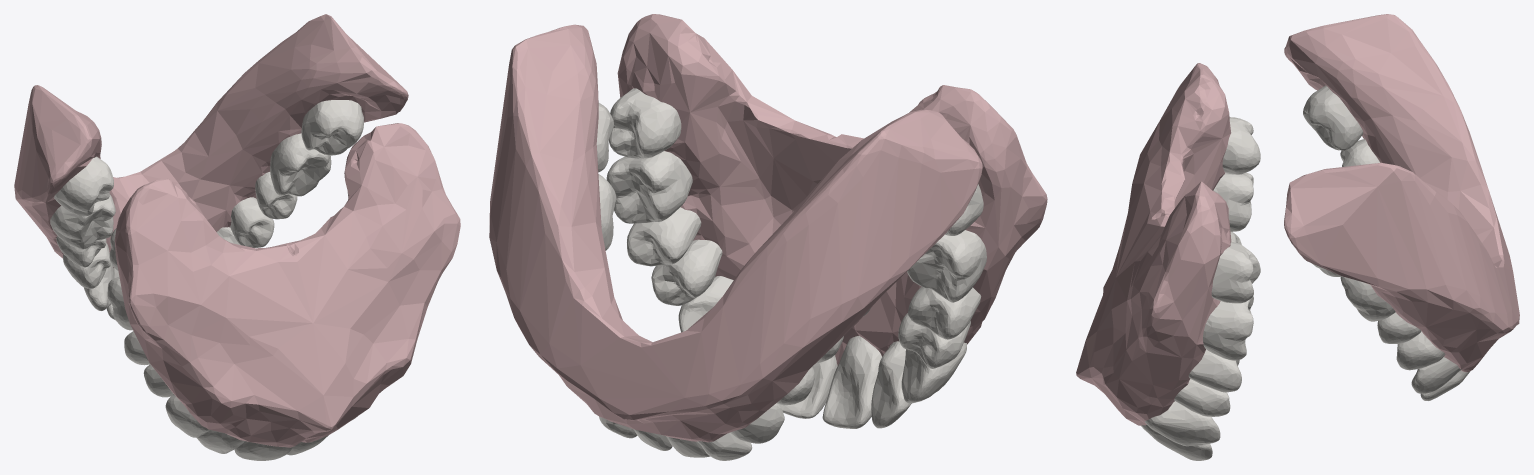
Rendered from dentadura.glb.
3 renders of one model, left to right at view 1: azimuth 30°, elevation 25°; view 2: azimuth 150°, elevation 25°; view 3: azimuth 270°, elevation 25°, orthographic. The views are drawn at different scales.
Visible parts, largest first — view 1: Encia superior, Encia inferior, Inferior_1, Inferior_2, Inferior_13, Inferior_14, Inferior_4, Inferior_3, Inferior_11, Superior_10, Superior_8, Inferior_12 (+5 smaller); view 2: Encia inferior, Encia superior, Superior_2, Superior_1, Superior_8, Superior_13, Superior_4, Superior_3, Superior_12, Superior_9, Superior_11, Superior_10 (+8 smaller); view 3: Encia inferior, Encia superior, Superior_2, Inferior_14, Superior_1, Superior_5, Superior_14, Superior_13, Superior_3, Superior_4, Inferior_2, Inferior_4 (+5 smaller).
Boxes of the visible parts, x1,y1,x2,y2 form: Encia superior: (114, 123, 460, 447); Encia inferior: (14, 14, 408, 267); Inferior_1: (301, 100, 363, 155); Inferior_2: (270, 133, 331, 196); Inferior_13: (50, 194, 115, 249); Inferior_14: (54, 156, 113, 216); Inferior_4: (230, 197, 274, 247); Inferior_3: (255, 172, 297, 219); Inferior_11: (63, 243, 110, 288); Superior_10: (165, 395, 210, 437); Superior_8: (234, 441, 292, 460); Inferior_12: (56, 236, 106, 267); Encia inferior: (489, 24, 982, 442); Encia superior: (617, 14, 1047, 365); Superior_2: (606, 151, 692, 223); Superior_1: (609, 88, 681, 158); Superior_8: (822, 336, 881, 428); Superior_13: (907, 230, 986, 302); Superior_4: (651, 239, 722, 305); Superior_3: (627, 207, 701, 266); Superior_12: (908, 286, 981, 339); Superior_9: (871, 341, 911, 428); Superior_11: (898, 313, 970, 368); Superior_10: (901, 342, 966, 403); Encia inferior: (1284, 14, 1519, 372); Encia superior: (1076, 63, 1231, 425); Superior_2: (1203, 296, 1253, 360); Inferior_14: (1303, 85, 1363, 150); Superior_1: (1211, 241, 1260, 303); Superior_5: (1144, 401, 1220, 446); Superior_14: (1222, 117, 1260, 174); Superior_13: (1213, 172, 1253, 231); Superior_3: (1188, 349, 1241, 392); Superior_4: (1174, 379, 1230, 416); Inferior_2: (1340, 276, 1395, 321); Inferior_4: (1396, 331, 1445, 370).
Bounding box in the file's own units: 1.88 × 1.69 × 1.91.
